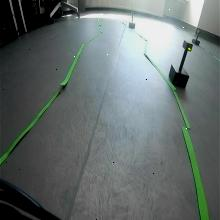green: (183, 39, 193, 53)
